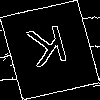K: (25, 24, 74, 77)
